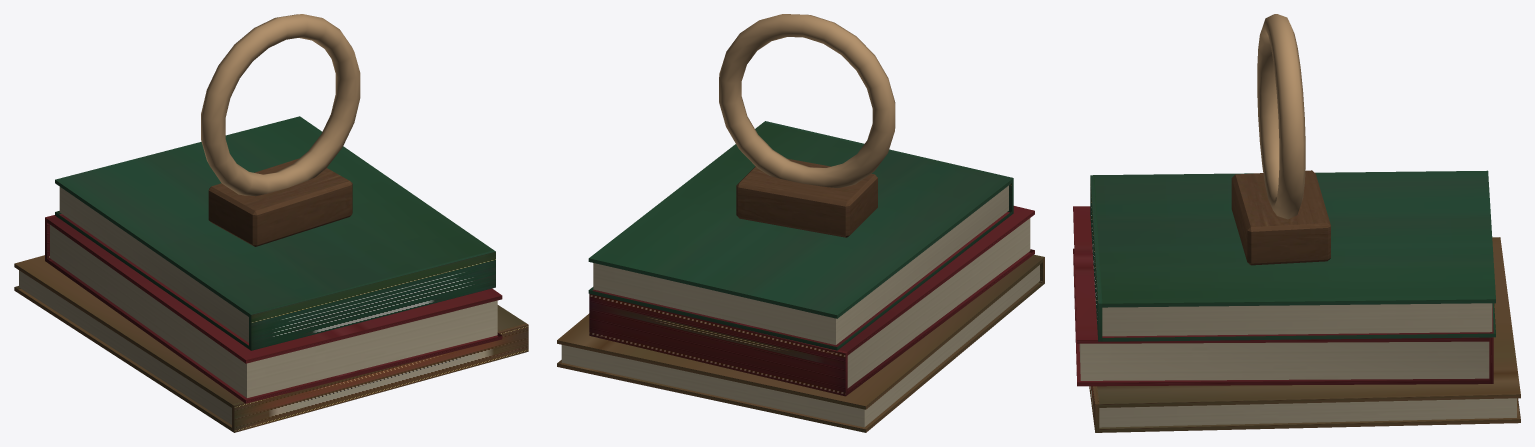
Rendered from decor_c_books.gltf.
3 renders of one model, left to right at view 1: azimuth 30°, elevation 25°; view 2: azimuth 150°, elevation 25°; view 3: azimuth 270°, elevation 25°, orthographic. The views are drawn at different scales.
Parts seen in each view (by area): view 1: DecorC_Books_Book03_Spines_NoCollide, DecorC_Books_Book02_Spines_NoCollide, DecorC_Books_Book01_Spines_NoCollide, DecorC_Books_Ornament01_Bronze_NoCollide, DecorC_Books_Ornament01_Walnut_NoCollide; view 2: DecorC_Books_Book03_Spines_NoCollide, DecorC_Books_Book02_Spines_NoCollide, DecorC_Books_Book01_Spines_NoCollide, DecorC_Books_Ornament01_Bronze_NoCollide, DecorC_Books_Ornament01_Walnut_NoCollide; view 3: DecorC_Books_Book03_Spines_NoCollide, DecorC_Books_Book02_Spines_NoCollide, DecorC_Books_Book01_Spines_NoCollide, DecorC_Books_Ornament01_Bronze_NoCollide, DecorC_Books_Ornament01_Walnut_NoCollide.
Boxes of the visible parts, <box> form: DecorC_Books_Book03_Spines_NoCollide: <box>55,116,495,350</box>; DecorC_Books_Book02_Spines_NoCollide: <box>45,214,502,403</box>; DecorC_Books_Book01_Spines_NoCollide: <box>14,255,528,432</box>; DecorC_Books_Ornament01_Bronze_NoCollide: <box>201,14,360,196</box>; DecorC_Books_Ornament01_Walnut_NoCollide: <box>208,158,352,246</box>; DecorC_Books_Book03_Spines_NoCollide: <box>588,121,1013,350</box>; DecorC_Books_Book02_Spines_NoCollide: <box>589,206,1034,396</box>; DecorC_Books_Book01_Spines_NoCollide: <box>557,254,1044,432</box>; DecorC_Books_Ornament01_Bronze_NoCollide: <box>719,14,895,187</box>; DecorC_Books_Ornament01_Walnut_NoCollide: <box>736,158,877,237</box>; DecorC_Books_Book03_Spines_NoCollide: <box>1090,170,1495,341</box>; DecorC_Books_Book02_Spines_NoCollide: <box>1073,206,1493,386</box>; DecorC_Books_Book01_Spines_NoCollide: <box>1089,237,1520,432</box>; DecorC_Books_Ornament01_Bronze_NoCollide: <box>1257,14,1305,219</box>; DecorC_Books_Ornament01_Walnut_NoCollide: <box>1231,170,1330,265</box>.
Bounding box in the file's own units: 0.3276 × 0.2994 × 0.3709.
Materials: 3 (2 with a texture image).
